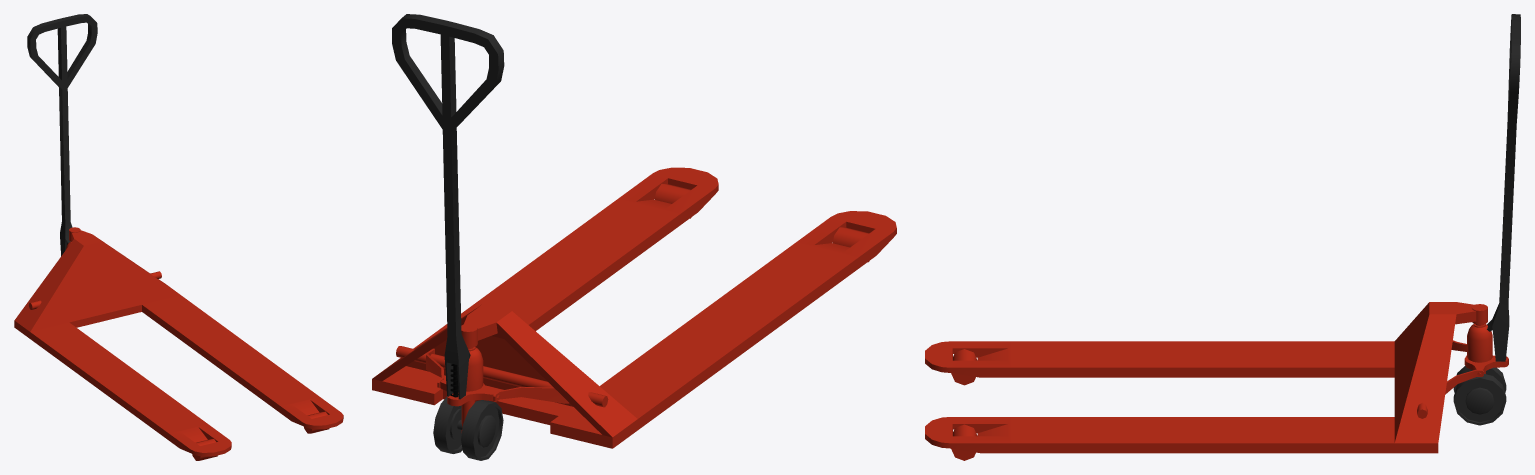
The model's file is trolley.fbx.
The picture shows the model from 3 angles, left to right: view 1: azimuth 30°, elevation 25°; view 2: azimuth 150°, elevation 25°; view 3: azimuth 270°, elevation 25°; orthographic projection. The views are drawn at different scales.
Visible parts, largest first — view 1: trolley; view 2: trolley; view 3: trolley.
Boxes of the visible parts, box(x1,y1,x2,y2) form: trolley: box(14, 14, 343, 460); trolley: box(372, 14, 896, 460); trolley: box(925, 14, 1520, 460).
Size of the model in its own units: 68.63 by 122 by 169.
